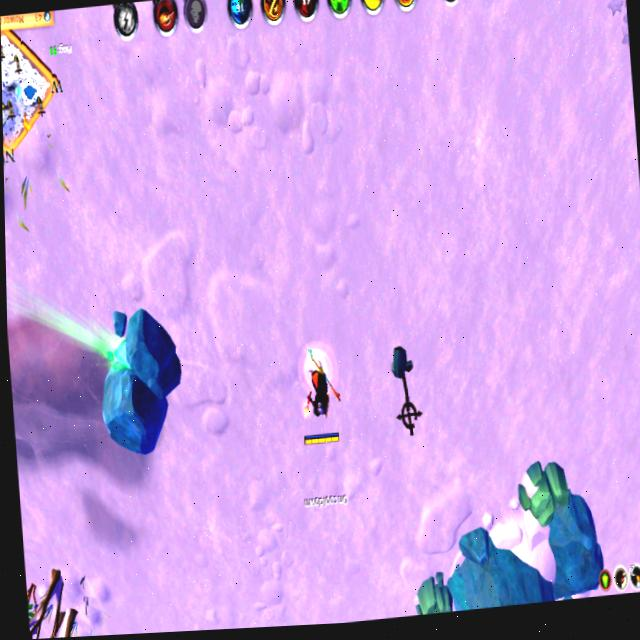hide: (27, 588, 39, 632)
red: (292, 338, 348, 452), (639, 446, 640, 471)
tree: (514, 453, 576, 535), (409, 565, 459, 615)
